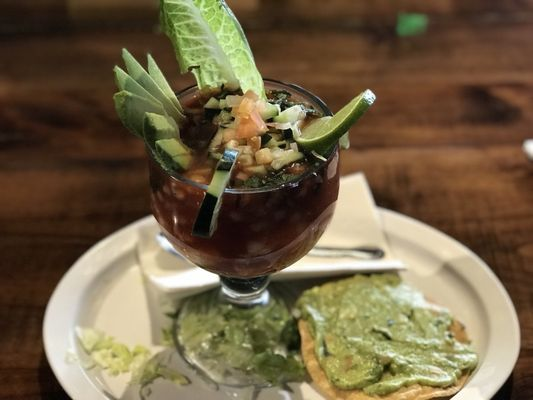curry: (1, 8, 498, 400)
sandwich: (141, 77, 376, 306)
